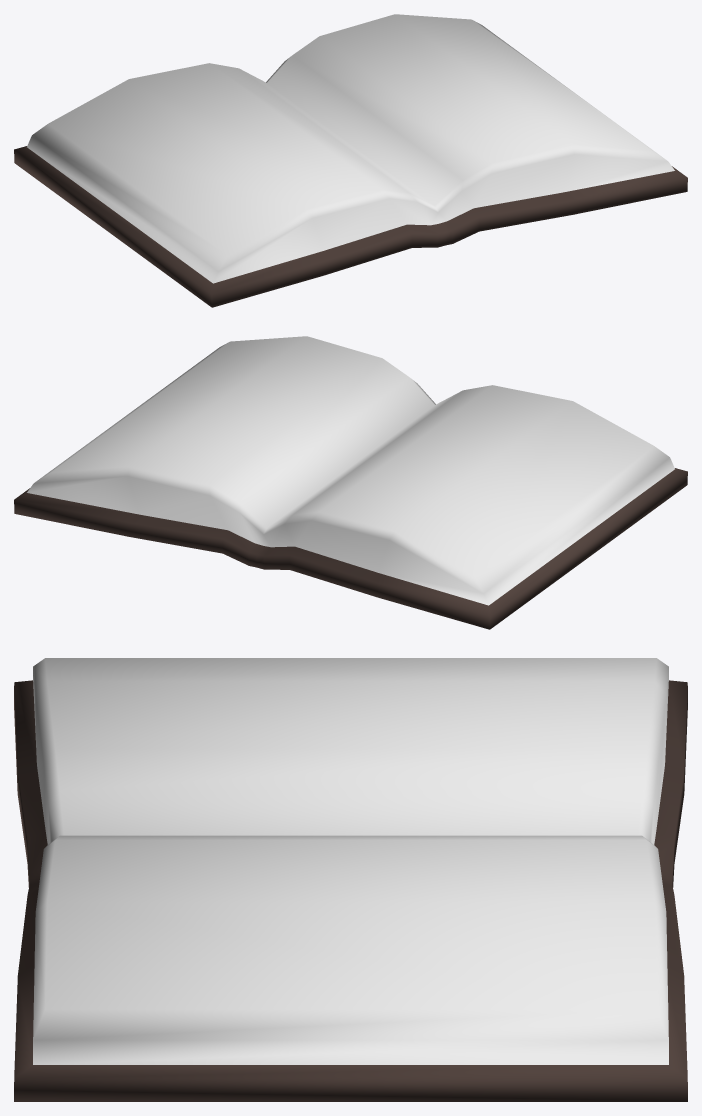
The model's file is Book_Open.glb.
3 views of the same model, one above another, from view 1: azimuth 30°, elevation 25°; view 2: azimuth 150°, elevation 25°; view 3: azimuth 270°, elevation 25° (orthographic). The views are drawn at different scales.
Visible parts, largest first — view 1: Book_Open; view 2: Book_Open; view 3: Book_Open.
Boxes of the visible parts, x1,y1,x2,y2 form: Book_Open: (14, 14, 687, 307); Book_Open: (14, 336, 687, 629); Book_Open: (14, 658, 687, 1101).
Size of the model in its own units: 0.399 by 0.0526 by 0.2866.
